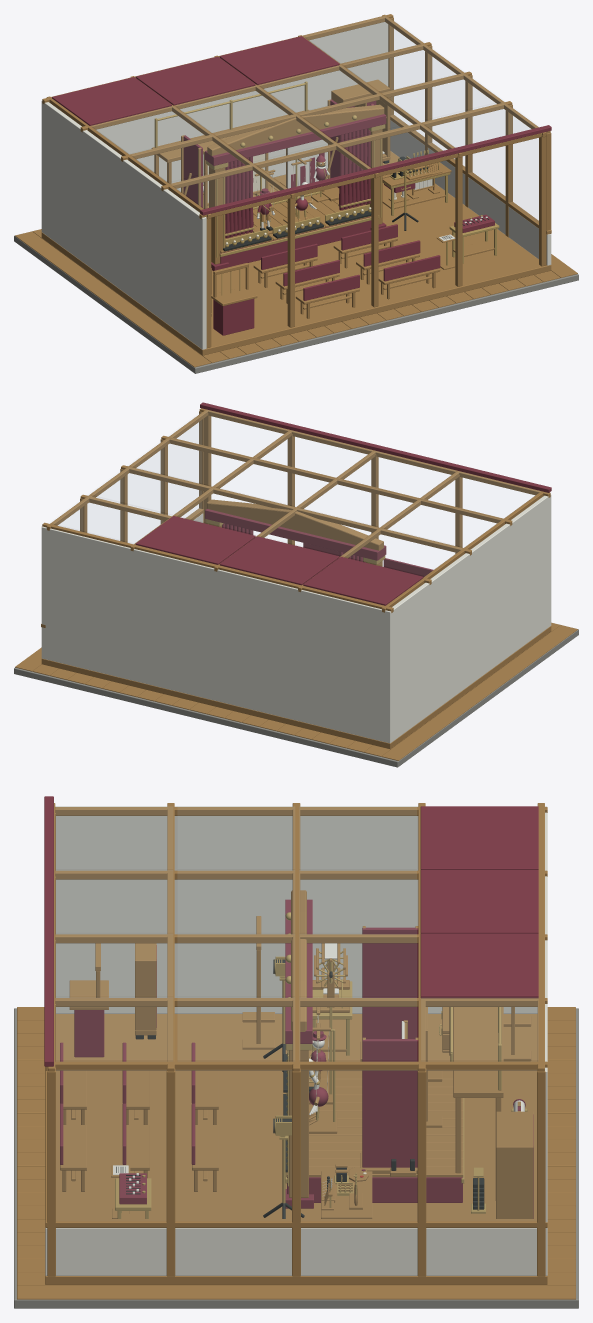
The model's file is abandoned-puppet-theatre-and-prop-vault--2f0ce2ea-starter-scene__31107.glb.
3 views of the same model, one above another, from view 1: azimuth 30°, elevation 25°; view 2: azimuth 150°, elevation 25°; view 3: azimuth 270°, elevation 25° (orthographic). The views are drawn at different scales.
Parts seen in each view (by area): view 1: 001-roofed-puppet-theatre/0, 001-roofed-puppet-theatre/1, 001-roofed-puppet-theatre/2, 000-theatre-floor-base/0, 001-roofed-puppet-theatre/3, 003-proscenium-arch/1, 000-theatre-floor-base/1, 003-proscenium-arch/2, 002-raised-puppet-stage/2, 007-gathered-stage-curtain/1, 006-gathered-stage-curtain/1, 002-raised-puppet-stage/1 (+20 smaller); view 2: 001-roofed-puppet-theatre/1, 001-roofed-puppet-theatre/0, 001-roofed-puppet-theatre/2, 000-theatre-floor-base/0, 001-roofed-puppet-theatre/3, 000-theatre-floor-base/1, 003-proscenium-arch/1, 003-proscenium-arch/2; view 3: 001-roofed-puppet-theatre/0, 001-roofed-puppet-theatre/1, 001-roofed-puppet-theatre/2, 000-theatre-floor-base/0, 002-raised-puppet-stage/1, 000-theatre-floor-base/1, 017-stage-wing-panel/1, 016-stage-wing-panel/1, 004-backstage-operator-bridge/1, 044-puppet-storage-cabinet/0, 003-proscenium-arch/1, 002-raised-puppet-stage/2 (+19 smaller).
Part boxes in pixels (x1,y1,x2,y2): 001-roofed-puppet-theatre/0: (41,14,551,355); 001-roofed-puppet-theatre/1: (41,22,551,349); 001-roofed-puppet-theatre/2: (52,36,551,215); 000-theatre-floor-base/0: (15,229,577,367); 001-roofed-puppet-theatre/3: (140,26,530,182); 003-proscenium-arch/1: (207,104,384,264); 000-theatre-floor-base/1: (14,231,578,373); 003-proscenium-arch/2: (205,114,386,270); 002-raised-puppet-stage/2: (220,217,371,266); 007-gathered-stage-curtain/1: (339,128,370,210); 006-gathered-stage-curtain/1: (225,156,253,238); 002-raised-puppet-stage/1: (203,180,371,253); 001-roofed-puppet-theatre/1: (41,494,551,743); 001-roofed-puppet-theatre/0: (41,408,551,749); 001-roofed-puppet-theatre/2: (135,402,551,605); 000-theatre-floor-base/0: (15,622,577,760); 001-roofed-puppet-theatre/3: (58,420,495,545); 000-theatre-floor-base/1: (14,629,578,767); 003-proscenium-arch/1: (207,499,383,566); 003-proscenium-arch/2: (205,509,386,560); 001-roofed-puppet-theatre/0: (45,803,547,1284); 001-roofed-puppet-theatre/1: (45,806,547,1275); 001-roofed-puppet-theatre/2: (44,796,538,1066); 000-theatre-floor-base/0: (17,1007,575,1299); 002-raised-puppet-stage/1: (286,1055,463,1177); 000-theatre-floor-base/1: (14,1008,578,1308); 017-stage-wing-panel/1: (362,1039,418,1167); 016-stage-wing-panel/1: (362,927,418,1038); 004-backstage-operator-bridge/1: (453,1007,503,1200); 044-puppet-storage-cabinet/0: (496,1111,533,1218); 003-proscenium-arch/1: (289,890,308,1197); 002-raised-puppet-stage/2: (287,1177,462,1202).
Bounding box in the file's own units: 11 × 4.12 × 9.
